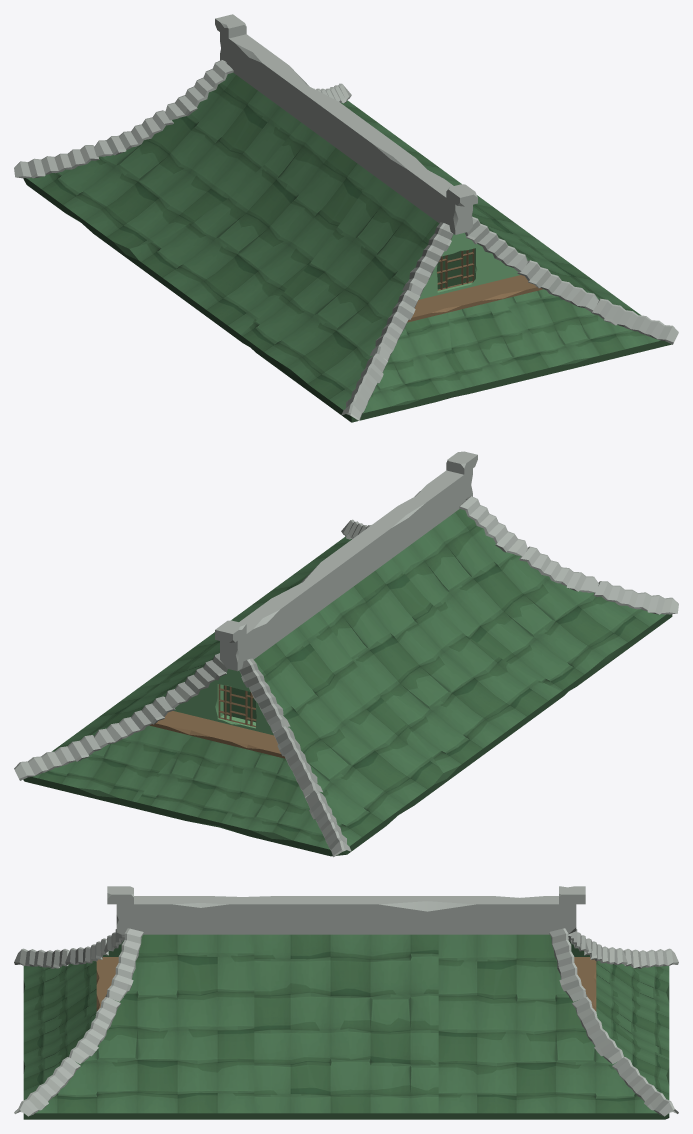
File: SM_Env_Roof_05.fbx
3 renders of one model, top to bottom at view 1: azimuth 30°, elevation 25°; view 2: azimuth 150°, elevation 25°; view 3: azimuth 270°, elevation 25°, orthographic. The views are drawn at different scales.
Parts seen in each view (by area): view 1: SM_Env_Roof_05; view 2: SM_Env_Roof_05; view 3: SM_Env_Roof_05.
Boxes of the visible parts, <box> form: SM_Env_Roof_05: <box>14,14,678,422</box>; SM_Env_Roof_05: <box>14,451,678,857</box>; SM_Env_Roof_05: <box>14,886,678,1119</box>.
Bounding box in the file's own units: 213 × 94.73 × 374.
Materials: 1 (1 with a texture image).
